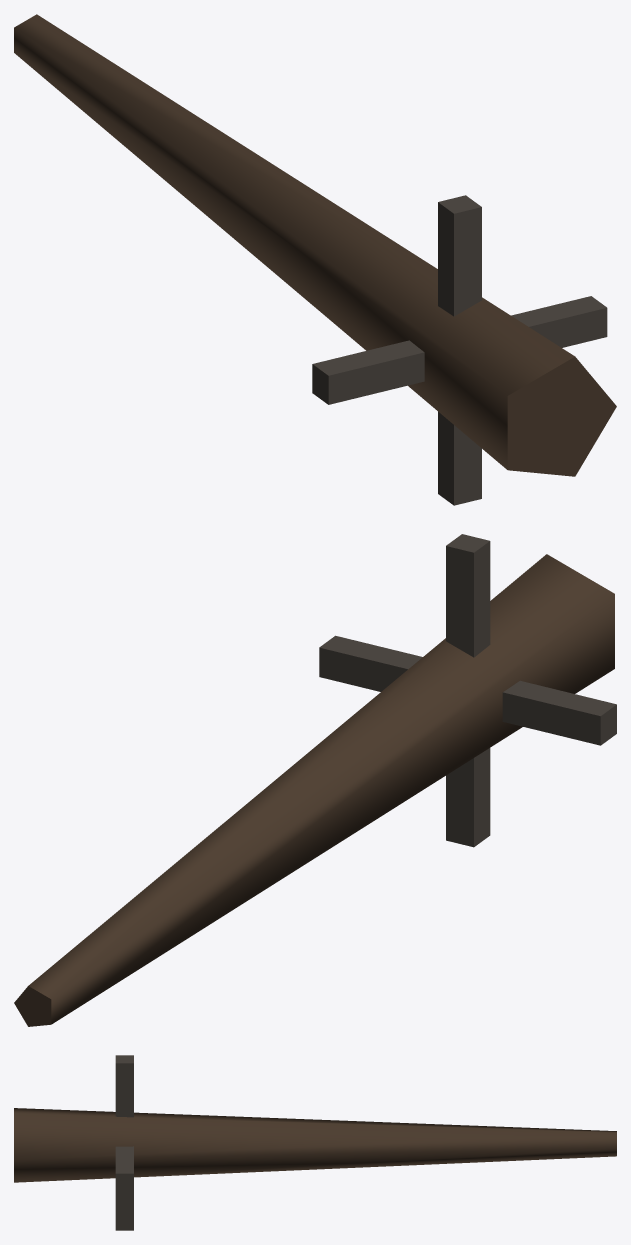
3 views of the same model, one above another, from view 1: azimuth 30°, elevation 25°; view 2: azimuth 150°, elevation 25°; view 3: azimuth 270°, elevation 25° (orthographic). The views are drawn at different scales.
Visible parts, largest first — view 1: raider_weapon_spiked_club; view 2: raider_weapon_spiked_club; view 3: raider_weapon_spiked_club.
Boxes of the visible parts, x1,y1,x2,y2 form: raider_weapon_spiked_club: (14, 14, 616, 505); raider_weapon_spiked_club: (14, 534, 616, 1026); raider_weapon_spiked_club: (14, 1055, 616, 1230).
Bounding box in the file's own units: 0.3 × 0.3 × 0.98.
